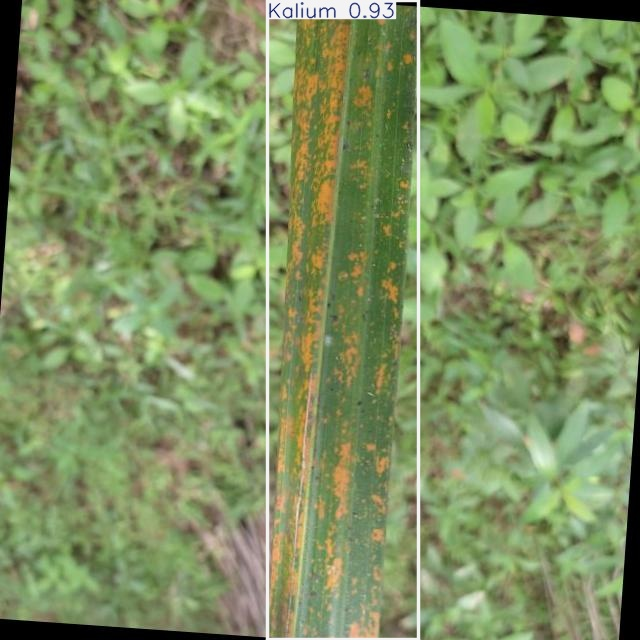Kalium: (267, 0, 418, 640)
